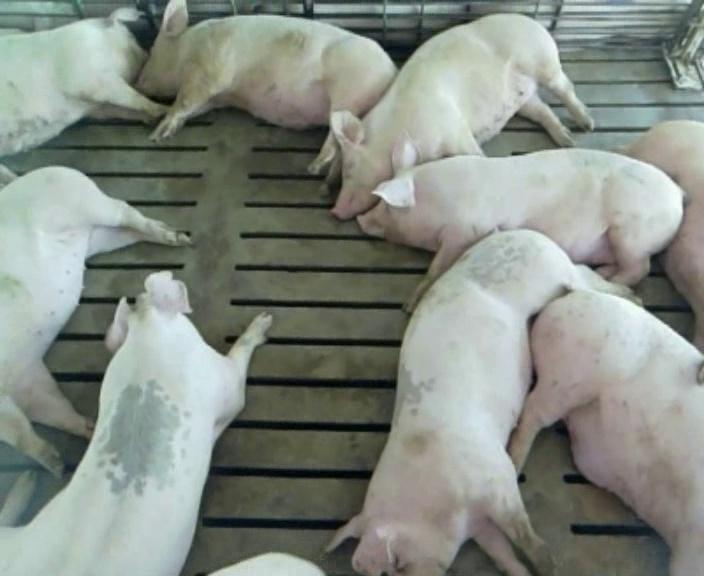pig: (327, 230, 643, 573), (0, 272, 270, 573), (357, 127, 682, 310), (0, 167, 189, 475), (510, 290, 703, 573), (331, 14, 593, 218), (628, 120, 703, 350)
